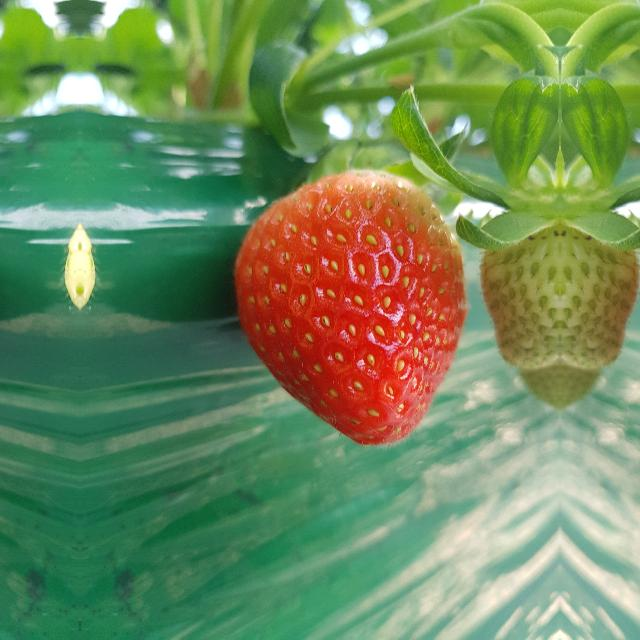Health_100: (235, 172, 468, 446)
Health_25: (473, 200, 559, 364), (561, 200, 640, 364)
